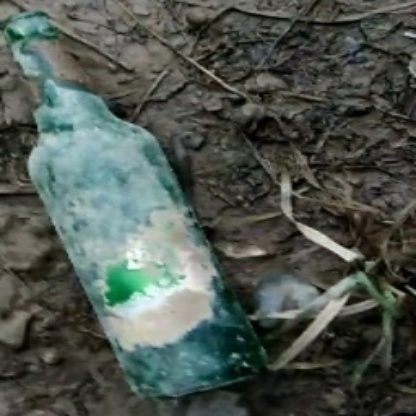bottle: (12, 11, 271, 390)
